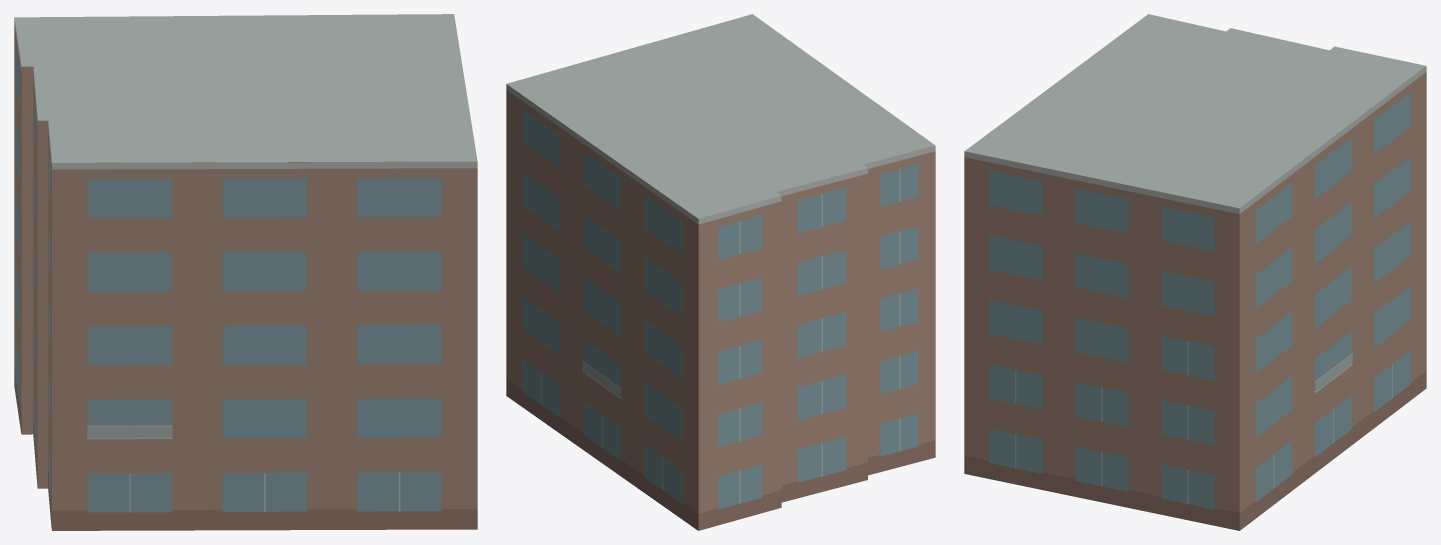
Rendered from survey-upis-32582714.glb.
3 renders of one model, left to right at view 1: azimuth 30°, elevation 25°; view 2: azimuth 150°, elevation 25°; view 3: azimuth 270°, elevation 25°, orthographic. The views are drawn at different scales.
Visible parts, largest first — view 1: survey-upis-32582714.tmp; view 2: survey-upis-32582714.tmp; view 3: survey-upis-32582714.tmp.
Part boxes in pixels (<box>): survey-upis-32582714.tmp: <box>14,14,477,530</box>; survey-upis-32582714.tmp: <box>506,14,935,530</box>; survey-upis-32582714.tmp: <box>964,14,1426,530</box>.
Bounding box in the file's own units: 17.2 × 13.3 × 17.28.
